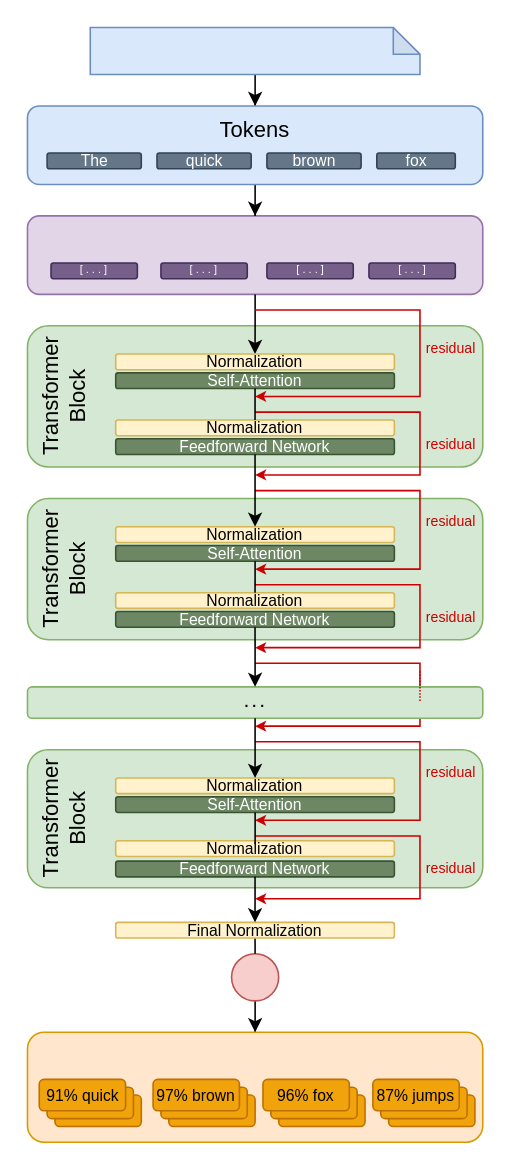
Some shapes in this 510 by 1170 pixel diagram are drawn without their labels. Each missing label, with the box of its shape:
"The quick brown fox": (89, 26, 420, 75)
Input Embeddings: (26, 214, 483, 294)
Output (Logits): (26, 1031, 483, 1142)
W out: (230, 952, 279, 1001)
